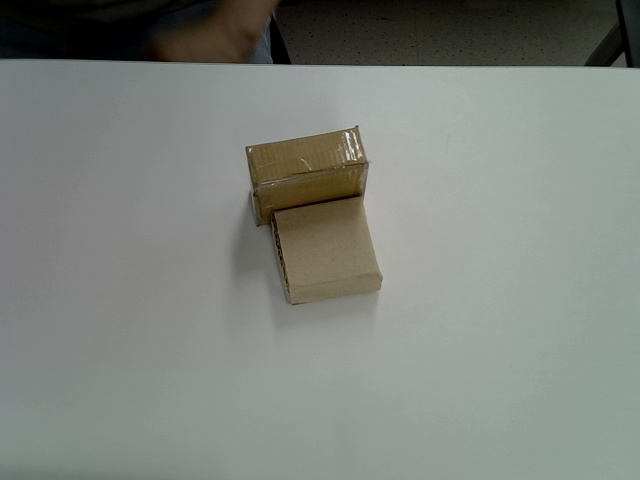normal: (244, 126, 370, 227), (271, 196, 383, 306)
